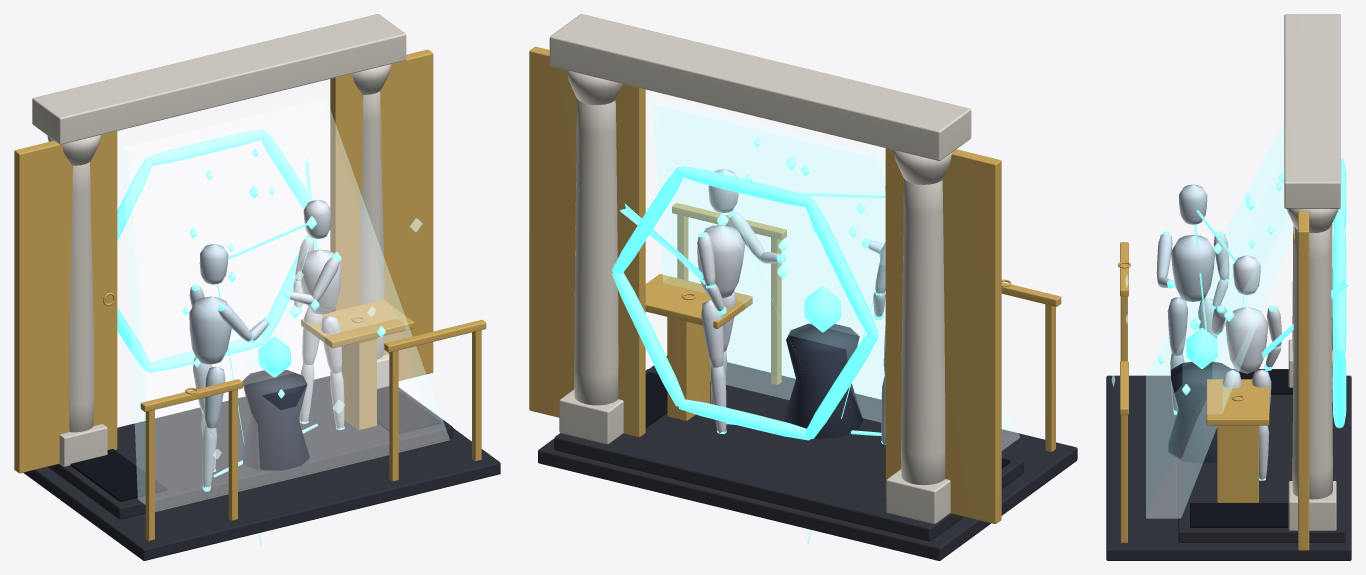
Rendered from webtoon-genre-hunter-guild-gate-lobby-v30.glb.
3 renders of one model, left to right at view 1: azimuth 30°, elevation 25°; view 2: azimuth 150°, elevation 25°; view 3: azimuth 270°, elevation 25°, orthographic. The views are drawn at different scales.
Parts seen in each view (by area): view 1: Volumetric_V30Genre3_Hunter_GodRaySlit, Articulated_V30Genre3_Hunter_DoorsAndIkRig, V30Genre3_Hunter_PortalColonnade, V30Genre3_Hunter_DatumDeck, GenreV30_V30Genre3_Hunter_HeroProp, DuoVrm_V30Genre3_Hunter_LeadA, DuoVrm_V30Genre3_Hunter_LeadB, GenreV30_V30Genre3_Hunter_DatumSet, ShadowDrift_V30Genre3_Hunter_UmbraMask, DuoVrm_V30Genre3_Hunter_EyelineAndAxis180, Atmospheric_V30Genre3_Hunter_MidMotes; view 2: Articulated_V30Genre3_Hunter_DoorsAndIkRig, V30Genre3_Hunter_PortalColonnade, Volumetric_V30Genre3_Hunter_GodRaySlit, V30Genre3_Hunter_DatumDeck, GenreV30_V30Genre3_Hunter_HeroProp, DuoVrm_V30Genre3_Hunter_LeadB, GenreV30_V30Genre3_Hunter_DatumSet, DuoVrm_V30Genre3_Hunter_EyelineAndAxis180, DuoVrm_V30Genre3_Hunter_LeadA, ShadowDrift_V30Genre3_Hunter_UmbraMask, Atmospheric_V30Genre3_Hunter_MidMotes; view 3: V30Genre3_Hunter_DatumDeck, V30Genre3_Hunter_PortalColonnade, Volumetric_V30Genre3_Hunter_GodRaySlit, Articulated_V30Genre3_Hunter_DoorsAndIkRig, DuoVrm_V30Genre3_Hunter_LeadA, DuoVrm_V30Genre3_Hunter_LeadB, GenreV30_V30Genre3_Hunter_HeroProp, GenreV30_V30Genre3_Hunter_DatumSet, ShadowDrift_V30Genre3_Hunter_UmbraMask, DuoVrm_V30Genre3_Hunter_EyelineAndAxis180, Atmospheric_V30Genre3_Hunter_MidMotes.
Boxes of the visible parts, bbox=[...] form: Volumetric_V30Genre3_Hunter_GodRaySlit: bbox=[123, 99, 449, 511]; Articulated_V30Genre3_Hunter_DoorsAndIkRig: bbox=[14, 49, 486, 540]; V30Genre3_Hunter_PortalColonnade: bbox=[32, 14, 406, 466]; V30Genre3_Hunter_DatumDeck: bbox=[23, 376, 500, 560]; GenreV30_V30Genre3_Hunter_HeroProp: bbox=[117, 129, 318, 377]; DuoVrm_V30Genre3_Hunter_LeadA: bbox=[189, 244, 268, 488]; DuoVrm_V30Genre3_Hunter_LeadB: bbox=[290, 200, 344, 428]; GenreV30_V30Genre3_Hunter_DatumSet: bbox=[239, 370, 309, 472]; ShadowDrift_V30Genre3_Hunter_UmbraMask: bbox=[70, 386, 440, 501]; DuoVrm_V30Genre3_Hunter_EyelineAndAxis180: bbox=[191, 158, 344, 545]; Atmospheric_V30Genre3_Hunter_MidMotes: bbox=[182, 148, 385, 398]; Articulated_V30Genre3_Hunter_DoorsAndIkRig: bbox=[529, 46, 1061, 523]; V30Genre3_Hunter_PortalColonnade: bbox=[549, 14, 971, 523]; Volumetric_V30Genre3_Hunter_GodRaySlit: bbox=[652, 99, 1019, 450]; V30Genre3_Hunter_DatumDeck: bbox=[538, 356, 1077, 560]; GenreV30_V30Genre3_Hunter_HeroProp: bbox=[612, 166, 878, 440]; DuoVrm_V30Genre3_Hunter_LeadB: bbox=[697, 169, 779, 433]; GenreV30_V30Genre3_Hunter_DatumSet: bbox=[783, 323, 862, 438]; DuoVrm_V30Genre3_Hunter_EyelineAndAxis180: bbox=[620, 192, 885, 544]; DuoVrm_V30Genre3_Hunter_LeadA: bbox=[868, 186, 885, 444]; ShadowDrift_V30Genre3_Hunter_UmbraMask: bbox=[645, 372, 1010, 468]; Atmospheric_V30Genre3_Hunter_MidMotes: bbox=[717, 137, 865, 278]; V30Genre3_Hunter_DatumDeck: bbox=[1106, 369, 1351, 560]; V30Genre3_Hunter_PortalColonnade: bbox=[1284, 14, 1340, 530]; Volumetric_V30Genre3_Hunter_GodRaySlit: bbox=[1146, 124, 1294, 518]; Articulated_V30Genre3_Hunter_DoorsAndIkRig: bbox=[1118, 211, 1309, 550]; DuoVrm_V30Genre3_Hunter_LeadA: bbox=[1156, 184, 1229, 411]; DuoVrm_V30Genre3_Hunter_LeadB: bbox=[1211, 255, 1281, 479]; GenreV30_V30Genre3_Hunter_HeroProp: bbox=[1186, 158, 1346, 428]; GenreV30_V30Genre3_Hunter_DatumSet: bbox=[1168, 361, 1232, 463]; ShadowDrift_V30Genre3_Hunter_UmbraMask: bbox=[1190, 369, 1292, 527]; DuoVrm_V30Genre3_Hunter_EyelineAndAxis180: bbox=[1157, 210, 1348, 480]; Atmospheric_V30Genre3_Hunter_MidMotes: bbox=[1157, 172, 1284, 394].
Size of the model in its own units: 3.2 by 3.32 by 1.64.
